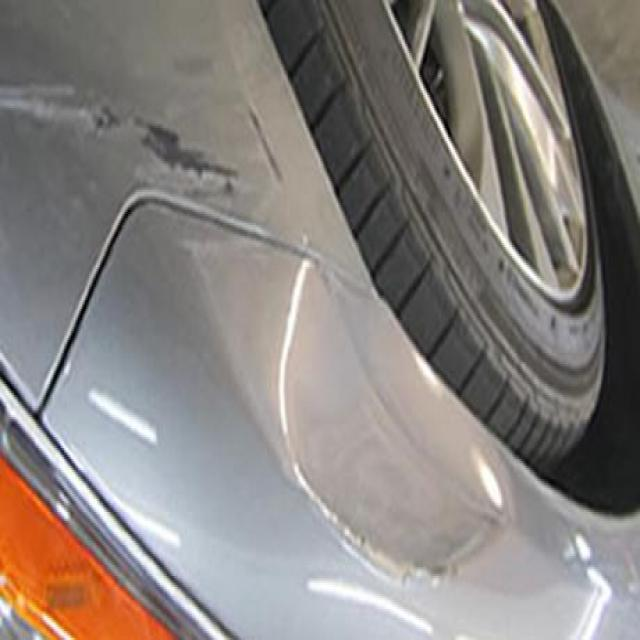scratch: (0, 0, 255, 210)
